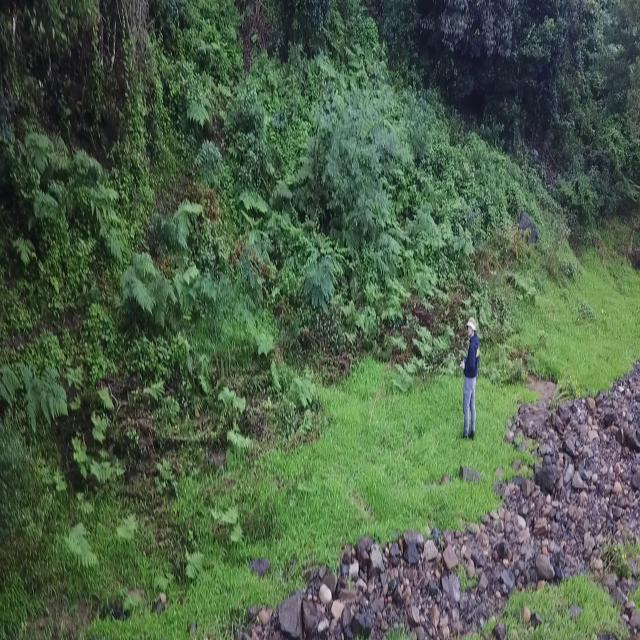Mysore-Thorn-Weed: (301, 249, 341, 315)
